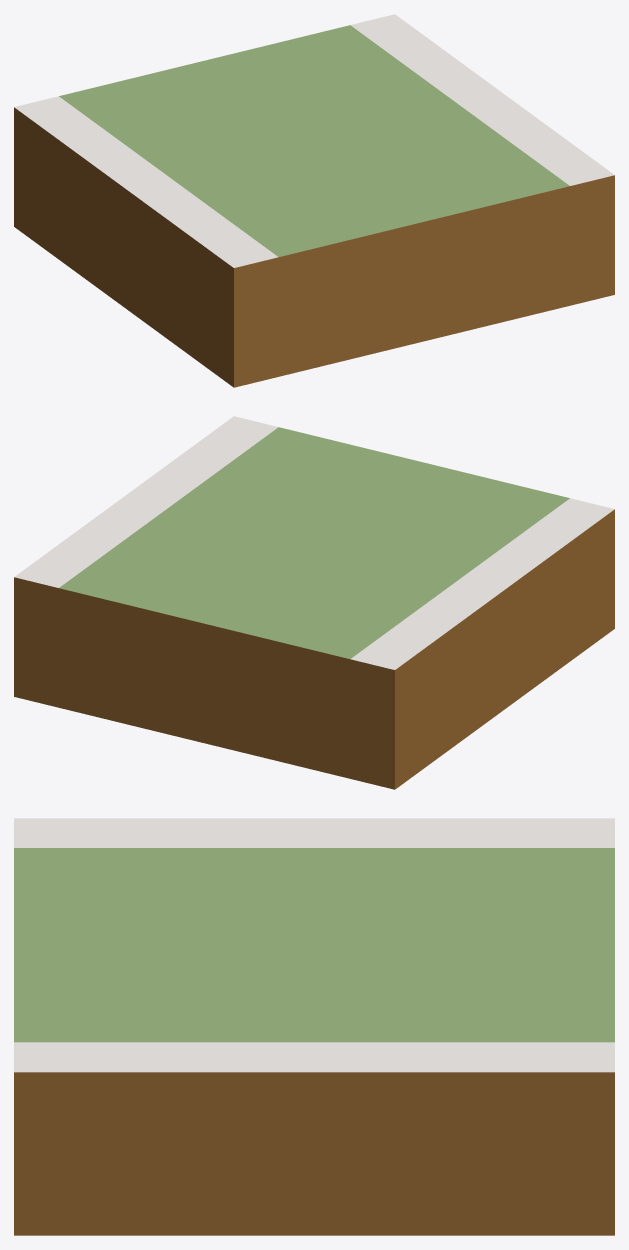
Rendered from floor_basic_green1.fbx.
3 views of the same model, one above another, from view 1: azimuth 30°, elevation 25°; view 2: azimuth 150°, elevation 25°; view 3: azimuth 270°, elevation 25° (orthographic). The views are drawn at different scales.
Parts seen in each view (by area): view 1: green_basic_floor1; view 2: green_basic_floor1; view 3: green_basic_floor1.
Part boxes in pixels (x1,y1,x2,y2): green_basic_floor1: [14, 14, 614, 387]; green_basic_floor1: [14, 416, 614, 789]; green_basic_floor1: [14, 818, 614, 1235].
Size of the model in its own units: 100 by 100 by 30.
